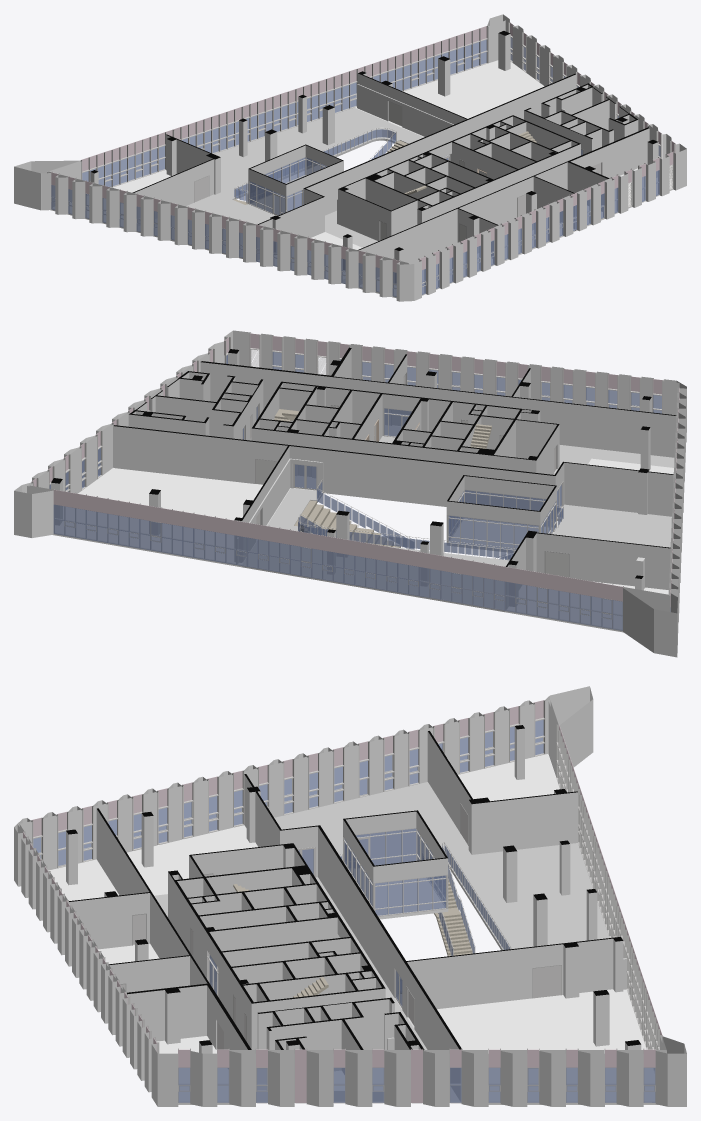
The picture shows the model from 3 angles, top to bottom: view 1: azimuth 30°, elevation 25°; view 2: azimuth 150°, elevation 25°; view 3: azimuth 270°, elevation 25°; orthographic projection. The views are drawn at different scales.
Visible parts, largest first — view 1: A7_7F_Wall001, A7_7F_outWall001, A7_7F_Window001, A7_7F_Floor001, A7_7F_WindowFrame001, A7_7F_GlassDoor001, A7_7F_Fence001, A7_7F_Door001; view 2: A7_7F_Wall001, A7_7F_Window001, A7_7F_Floor001, A7_7F_outWall001, A7_7F_WindowFrame001, A7_7F_GlassDoor001, A7_7F_Fence001, A7_7F_Stairs001, A7_7F_Door001; view 3: A7_7F_Wall001, A7_7F_outWall001, A7_7F_Floor001, A7_7F_Window001, A7_7F_WindowFrame001, A7_7F_GlassDoor001, A7_7F_Door001, A7_7F_Stairs001, A7_7F_Fence001.
Boxes of the visible parts, left/top/right/bottom form: A7_7F_Wall001: left=90, top=31, right=658, bottom=284; A7_7F_outWall001: left=14, top=14, right=686, bottom=301; A7_7F_Window001: left=51, top=22, right=675, bottom=296; A7_7F_Floor001: left=50, top=60, right=673, bottom=298; A7_7F_WindowFrame001: left=51, top=22, right=675, bottom=296; A7_7F_GlassDoor001: left=248, top=149, right=582, bottom=215; A7_7F_Fence001: left=234, top=127, right=396, bottom=212; A7_7F_Door001: left=194, top=100, right=601, bottom=241; A7_7F_Wall001: left=51, top=347, right=676, bottom=609; A7_7F_Window001: left=31, top=333, right=679, bottom=630; A7_7F_Floor001: left=53, top=425, right=674, bottom=632; A7_7F_outWall001: left=14, top=330, right=686, bottom=657; A7_7F_WindowFrame001: left=31, top=333, right=679, bottom=630; A7_7F_GlassDoor001: left=243, top=405, right=563, bottom=550; A7_7F_Fence001: left=298, top=480, right=563, bottom=560; A7_7F_Stairs001: left=274, top=409, right=491, bottom=547; A7_7F_Door001: left=242, top=372, right=569, bottom=577; A7_7F_Wall001: left=66, top=725, right=641, bottom=1103; A7_7F_outWall001: left=14, top=686, right=686, bottom=1106; A7_7F_Floor001: left=48, top=754, right=658, bottom=1104; A7_7F_Window001: left=22, top=700, right=662, bottom=1102; A7_7F_WindowFrame001: left=23, top=700, right=661, bottom=1103; A7_7F_GlassDoor001: left=207, top=828, right=448, bottom=1009; A7_7F_Door001: left=120, top=803, right=561, bottom=1049; A7_7F_Stairs001: left=233, top=858, right=472, bottom=997; A7_7F_Fence001: left=339, top=842, right=511, bottom=991.
Bounding box in the file's own units: 62.12 × 8.55 × 48.09.
